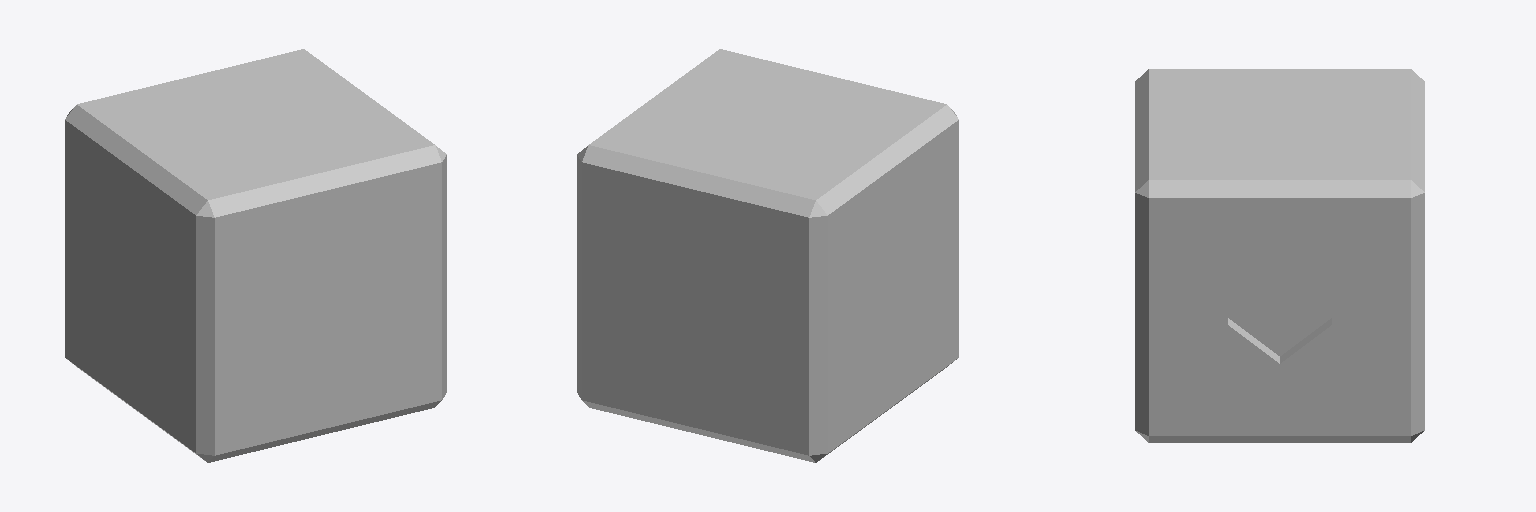
File: BoxAny.obj
3 renders of one model, left to right at view 1: azimuth 30°, elevation 25°; view 2: azimuth 150°, elevation 25°; view 3: azimuth 270°, elevation 25°, orthographic.
Visible parts, largest first — view 1: Cube.001; view 2: Cube.001; view 3: Cube.001.
Part boxes in pixels (x1,y1,x2,y2): Cube.001: (65,49,446,462); Cube.001: (577,49,958,462); Cube.001: (1135,69,1424,442).
Size of the model in its own units: 2 by 2 by 2.